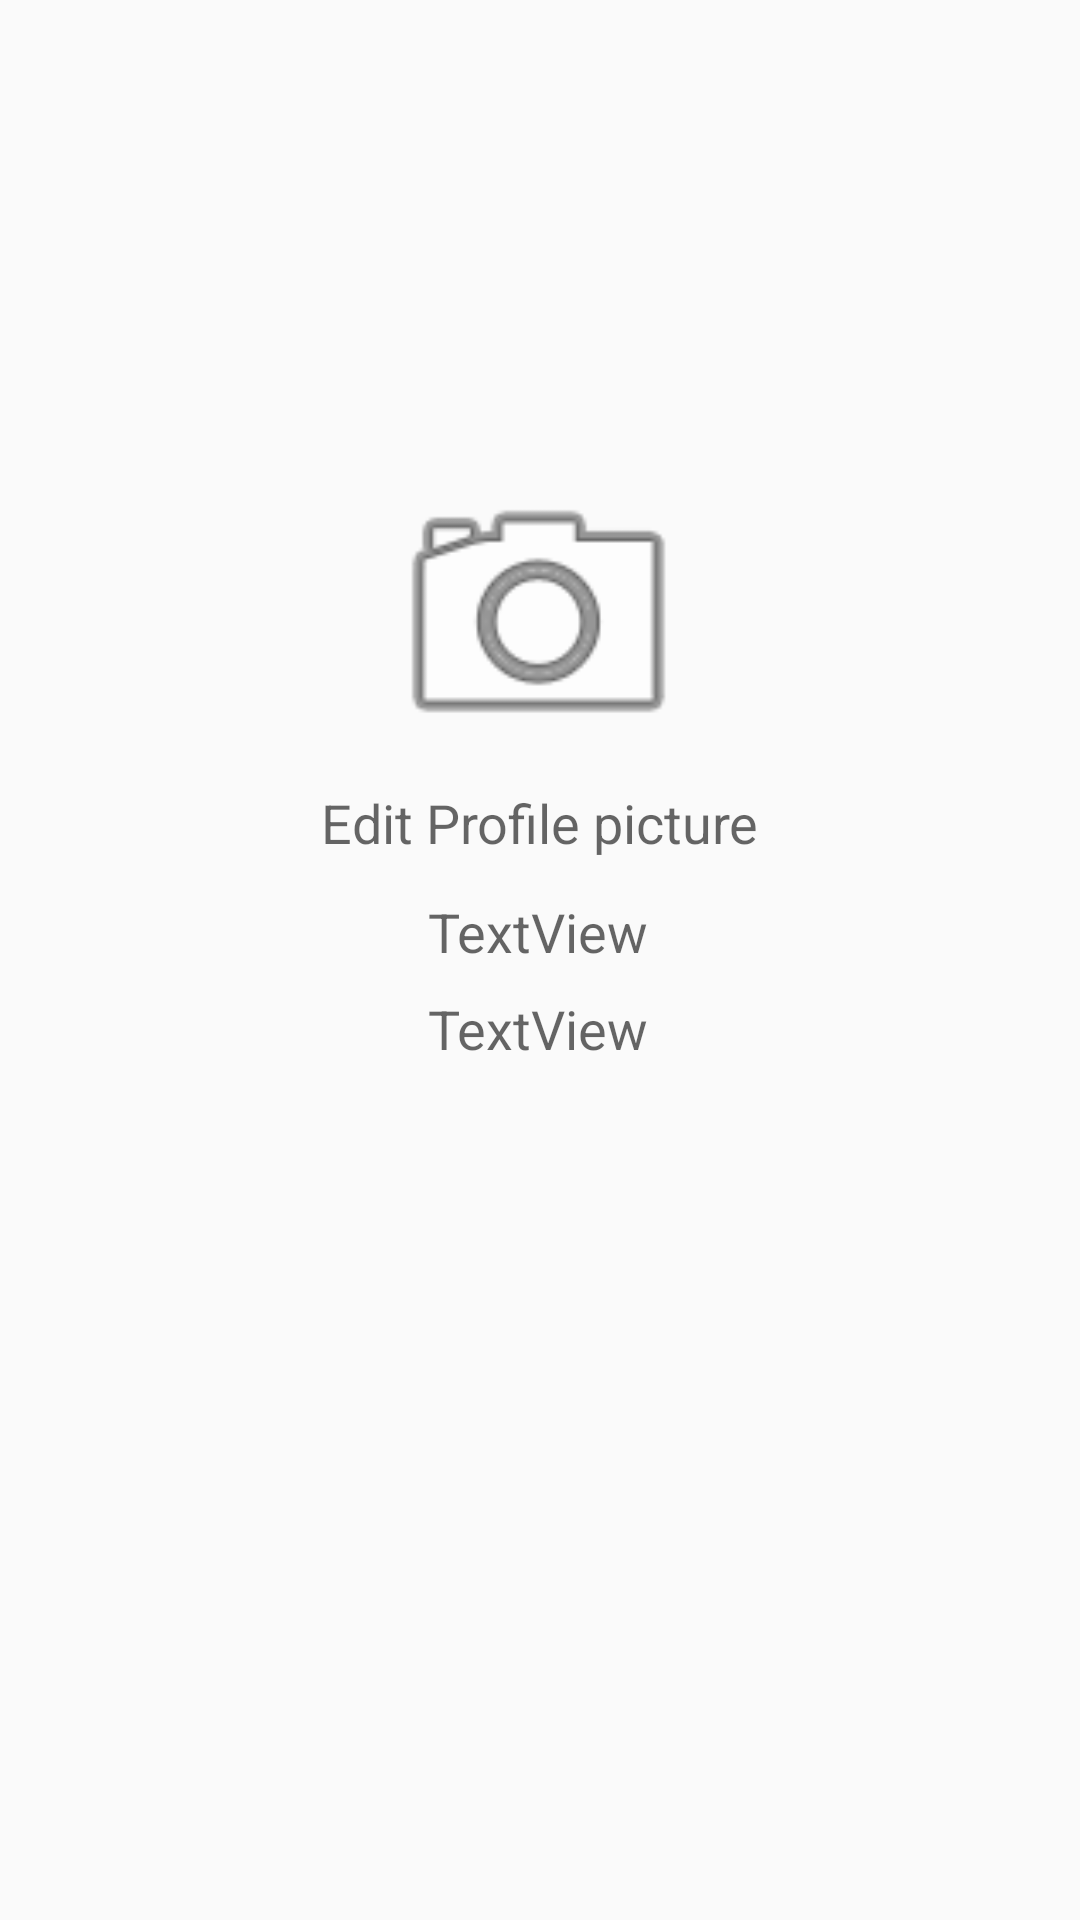

Icons on this 1080px×1920px Android screen, each with its box as (x1, y1, x2, y2):
camera: (412, 510, 665, 712)
